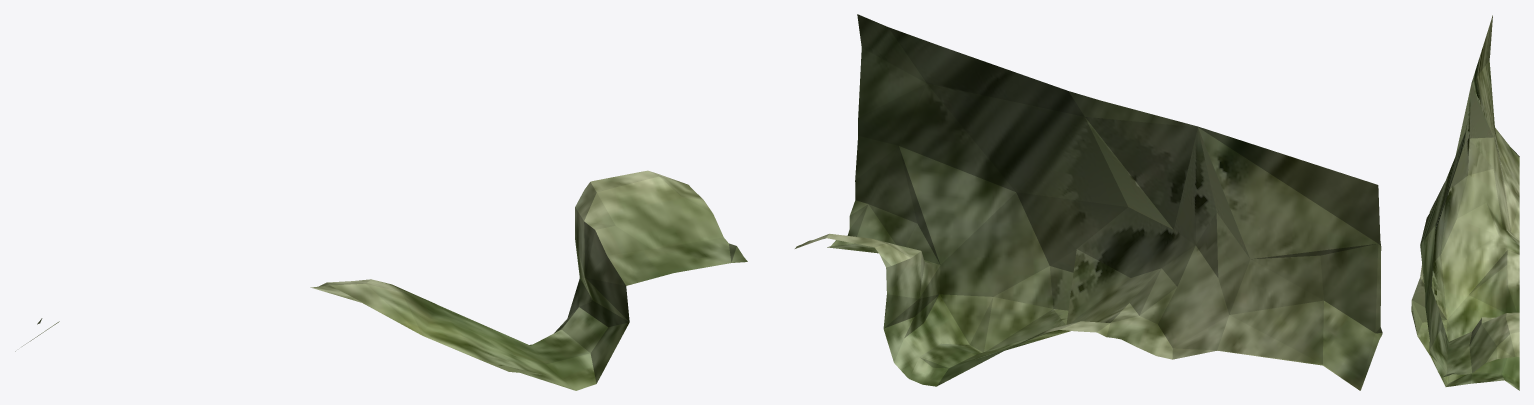
The picture shows the model from 3 angles, left to right: view 1: azimuth 30°, elevation 25°; view 2: azimuth 150°, elevation 25°; view 3: azimuth 270°, elevation 25°; orthographic projection. The views are drawn at different scales.
Size of the model in its own units: 2.95 by 1.46 by 0.663.
1 material, 1 textured.
